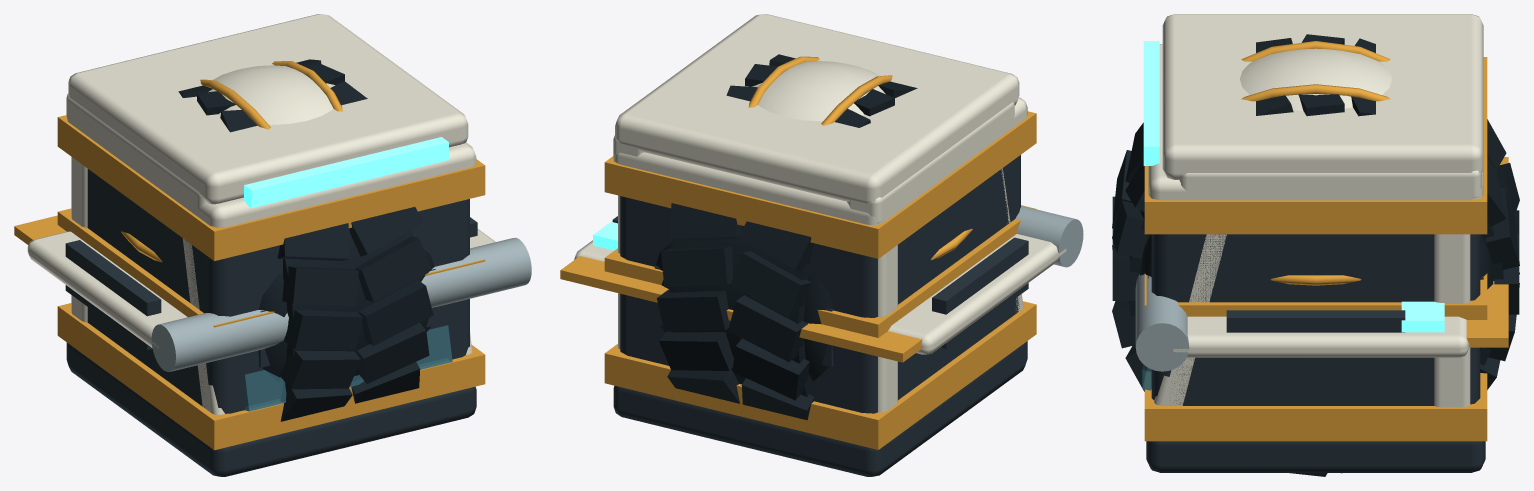
The model's file is machine-kit.glb.
The picture shows the model from 3 angles, left to right: view 1: azimuth 30°, elevation 25°; view 2: azimuth 150°, elevation 25°; view 3: azimuth 270°, elevation 25°; orthographic projection. The views are drawn at different scales.
Parts seen in each view (by area): view 1: cockpit_Ceramic_enamel, wheel_Tire_rubber, ballast_Safety_ochre, ballast_Graphite_chassis, cockpit_Graphite_chassis, wing_Machined_aluminium, frame_Ceramic_enamel, cockpit_Status_cyan, wing_Ceramic_enamel, balloon_Ceramic_enamel, wing_Graphite_chassis, cockpit_Smoked_canopy (+2 smaller); view 2: cockpit_Ceramic_enamel, wheel_Tire_rubber, ballast_Safety_ochre, ballast_Graphite_chassis, cockpit_Graphite_chassis, wing_Ceramic_enamel, frame_Ceramic_enamel, balloon_Ceramic_enamel, wing_Safety_ochre, wing_Graphite_chassis, wing_Machined_aluminium, balloon_Safety_ochre (+1 smaller); view 3: cockpit_Ceramic_enamel, ballast_Graphite_chassis, ballast_Safety_ochre, wheel_Tire_rubber, cockpit_Graphite_chassis, wing_Ceramic_enamel, wing_Graphite_chassis, balloon_Ceramic_enamel, frame_Ceramic_enamel, wing_Machined_aluminium, balloon_Safety_ochre, cockpit_Status_cyan (+2 smaller).
Boxes of the visible parts, x1=… form: cockpit_Ceramic_enamel: x1=66, y1=14, x2=472, y2=414; wheel_Tire_rubber: x1=178, y1=59, x2=434, y2=421; ballast_Safety_ochre: x1=57, y1=115, x2=485, y2=450; ballast_Graphite_chassis: x1=87, y1=169, x2=469, y2=413; cockpit_Graphite_chassis: x1=66, y1=342, x2=476, y2=476; wing_Machined_aluminium: x1=151, y1=237, x2=531, y2=371; frame_Ceramic_enamel: x1=67, y1=118, x2=476, y2=227; cockpit_Status_cyan: x1=244, y1=137, x2=448, y2=207; wing_Ceramic_enamel: x1=27, y1=229, x2=495, y2=348; balloon_Ceramic_enamel: x1=208, y1=65, x2=335, y2=124; wing_Graphite_chassis: x1=65, y1=217, x2=477, y2=350; cockpit_Smoked_canopy: x1=245, y1=325, x2=452, y2=411; cockpit_Ceramic_enamel: x1=613, y1=14, x2=1023, y2=412; wheel_Tire_rubber: x1=656, y1=54, x2=917, y2=420; ballast_Safety_ochre: x1=604, y1=111, x2=1036, y2=449; ballast_Graphite_chassis: x1=620, y1=155, x2=1020, y2=413; cockpit_Graphite_chassis: x1=613, y1=341, x2=1027, y2=476; wing_Ceramic_enamel: x1=574, y1=234, x2=1066, y2=354; frame_Ceramic_enamel: x1=613, y1=97, x2=1027, y2=225; balloon_Ceramic_enamel: x1=752, y1=61, x2=885, y2=121; wing_Safety_ochre: x1=560, y1=256, x2=922, y2=362; wing_Graphite_chassis: x1=612, y1=216, x2=1028, y2=348; wing_Machined_aluminium: x1=1015, y1=205, x2=1083, y2=267; balloon_Safety_ochre: x1=748, y1=56, x2=972, y2=260; cockpit_Ceramic_enamel: x1=1154, y1=14, x2=1483, y2=407; ballast_Graphite_chassis: x1=1151, y1=234, x2=1480, y2=405; ballast_Safety_ochre: x1=1144, y1=57, x2=1487, y2=441; wheel_Tire_rubber: x1=1112, y1=34, x2=1519, y2=476; cockpit_Graphite_chassis: x1=1146, y1=441, x2=1485, y2=472; wing_Ceramic_enamel: x1=1173, y1=316, x2=1469, y2=357; wing_Graphite_chassis: x1=1226, y1=310, x2=1405, y2=369; balloon_Ceramic_enamel: x1=1240, y1=48, x2=1391, y2=110; frame_Ceramic_enamel: x1=1148, y1=44, x2=1483, y2=200; wing_Machined_aluminium: x1=1135, y1=274, x2=1189, y2=371; balloon_Safety_ochre: x1=1241, y1=41, x2=1390, y2=285; cockpit_Status_cyan: x1=1143, y1=41, x2=1159, y2=165.
Size of the model in its own units: 1.26 by 1.17 by 1.14.
